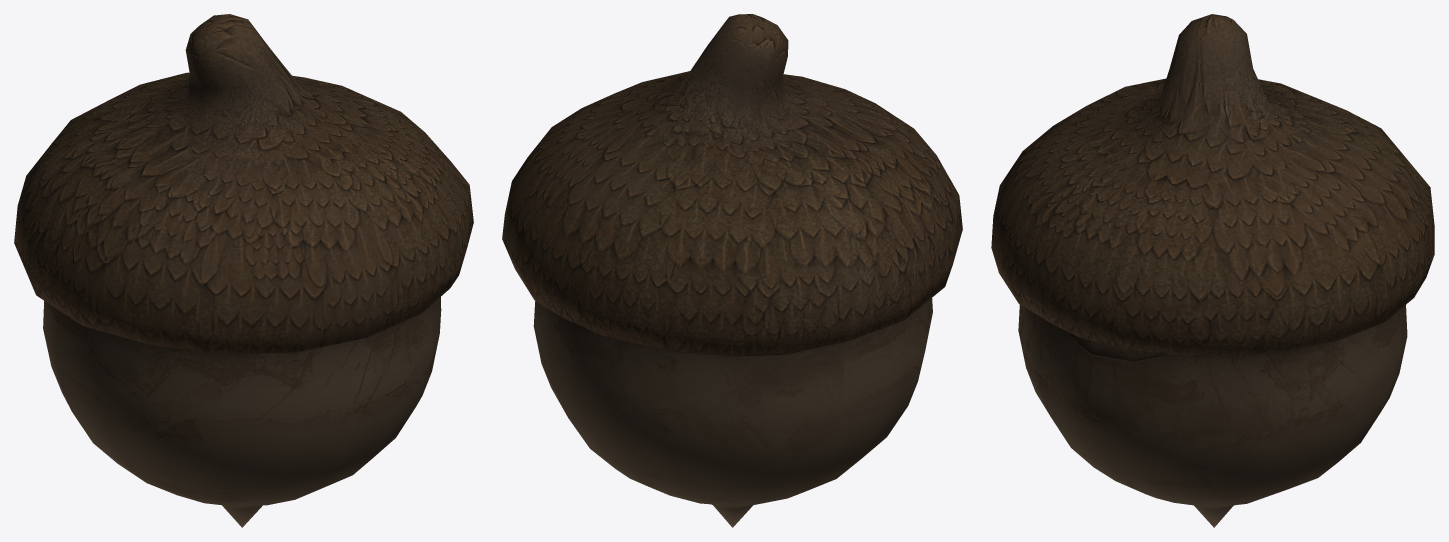
Rendered from Acorn.fbx.
The picture shows the model from 3 angles, left to right: view 1: azimuth 30°, elevation 25°; view 2: azimuth 150°, elevation 25°; view 3: azimuth 270°, elevation 25°; orthographic projection. The views are drawn at different scales.
Visible parts, largest first — view 1: Acorn; view 2: Acorn; view 3: Acorn.
Part boxes in pixels (left/top/right/bottom): Acorn: left=14, top=14, right=473, bottom=527; Acorn: left=502, top=14, right=962, bottom=527; Acorn: left=991, top=14, right=1434, bottom=527.
Bounding box in the file's own units: 6.15 × 6.12 × 7.69.
